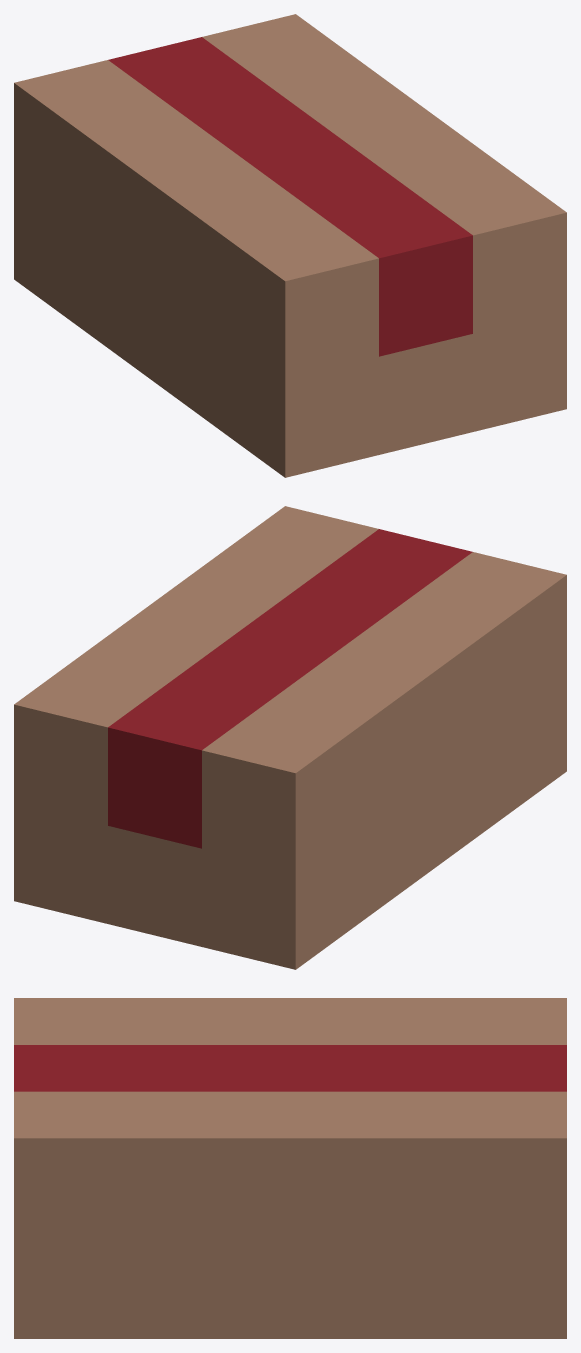
File: 3D Voxel Park-85.obj
3 views of the same model, one above another, from view 1: azimuth 30°, elevation 25°; view 2: azimuth 150°, elevation 25°; view 3: azimuth 270°, elevation 25° (orthographic).
Bounding box in the file's own units: 0.3 × 0.2 × 0.5.
Materials: 1 (1 with a texture image).
